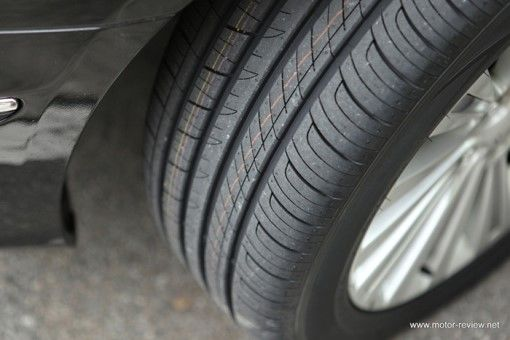new_condition: (145, 2, 475, 334)
